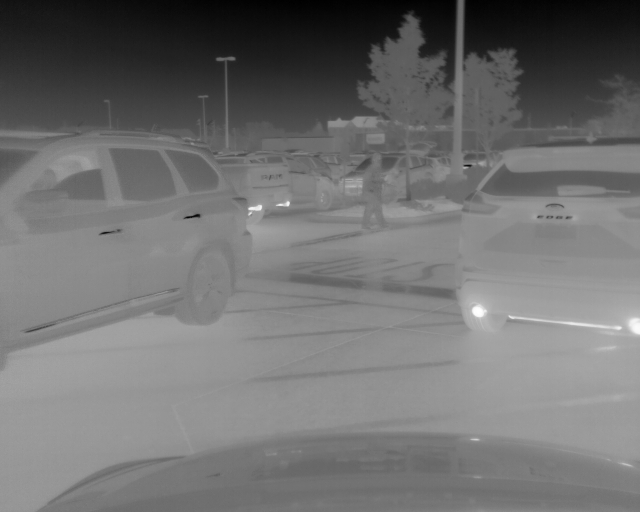car: (1, 127, 255, 364), (454, 135, 640, 343), (342, 152, 448, 202), (220, 154, 290, 223), (265, 153, 345, 213)
people: (362, 154, 389, 230)
